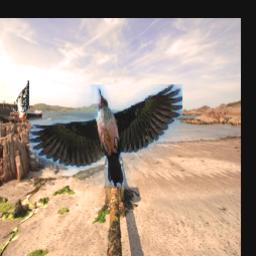Woodpecker: (29, 84, 182, 187), (13, 80, 30, 119)
